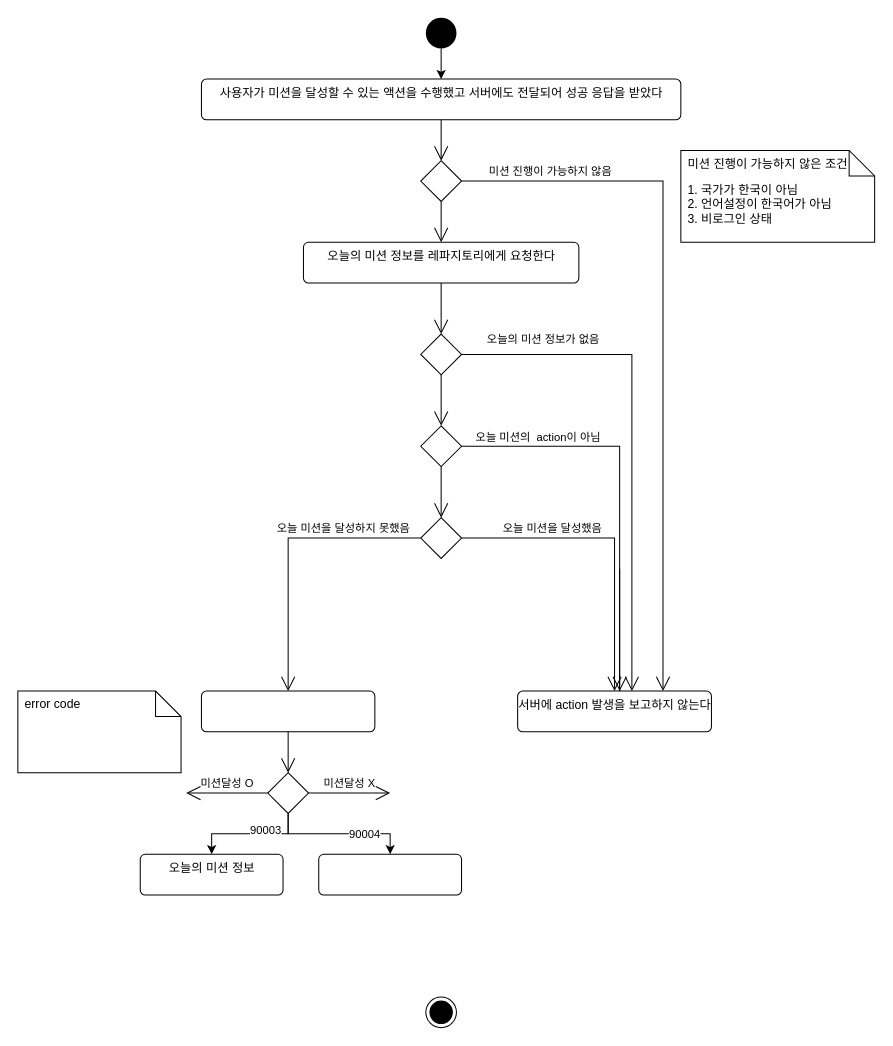
Some shapes in this 893 by 1046 pixel diagram are drawn without their labels. Each missing label, with the box of its shape:
90003: 오늘 수행할 퀘스트 액션 X 90004: 퀘스트 수행 유저 X, 국가가 한국이 아님 X: (17, 690, 181, 773)
서버에 action 발생을 보고한다: (200, 690, 375, 732)
처리 X: (318, 853, 462, 895)
